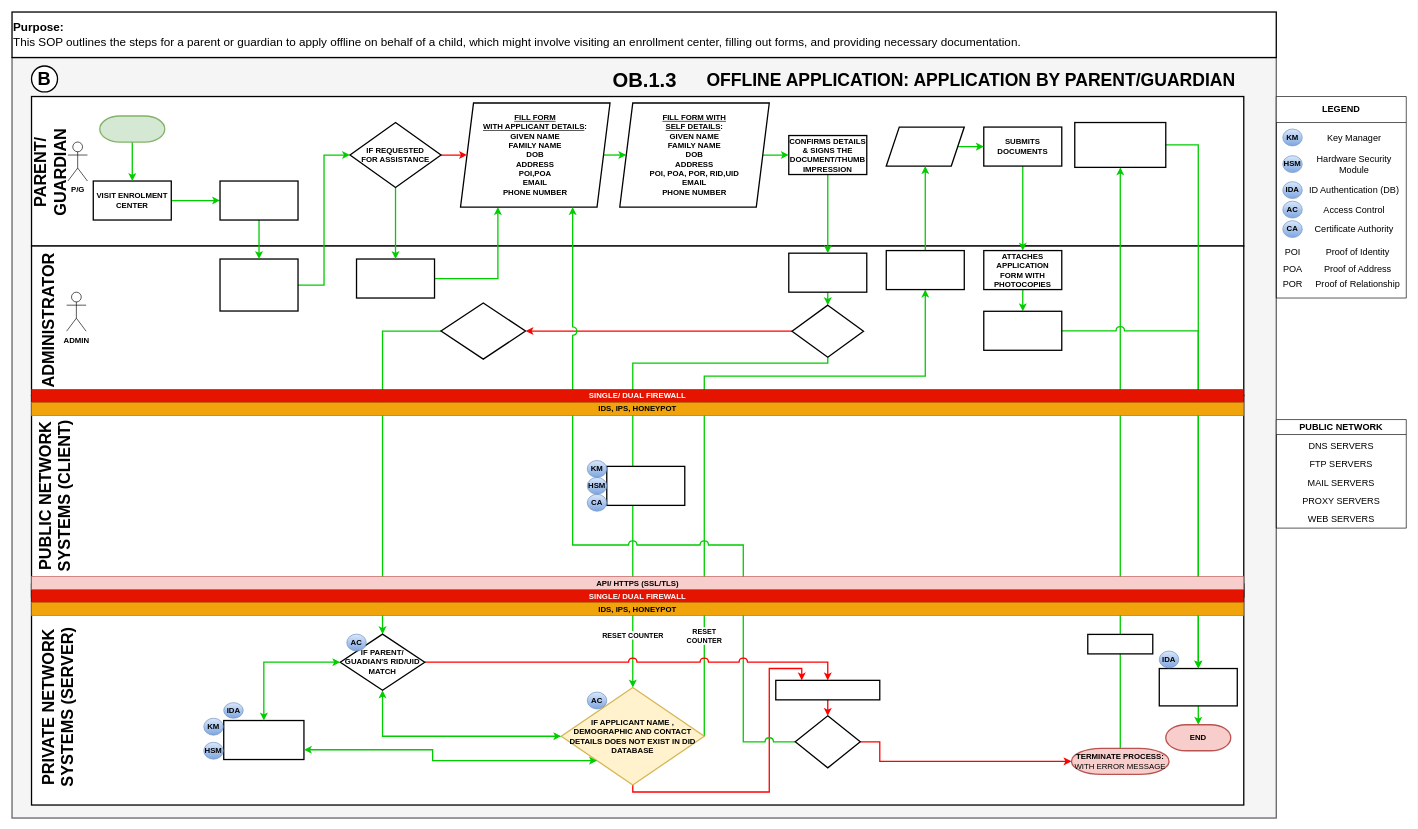
The diagram is 1418 pixels wide and 829 high, and some of its shapes have lost their labels. Here are the shapes that lost their labels. From the top down, the centre of each, then its label:
[132,128]: START (OFFLINE)
[925,146]: PROVIDES PHOTOCOPIES OF POI, POA & POR
[1120,145]: RECEIVE APPLICATION REJECTED ACKNOWLEDGEMENT
[258,200]: REQUEST NEW APPLICATION FORM with PARENT/GUARDIAN
[258,284]: HANDS OVER PHYSICAL COPY OF NEW APPLICATION FORM FOR PARENT/GUARDIAN
[395,278]: PROVIDES ASSISTANCE TO FILL THE FORM
[827,272]: RECEIVE FILLED APPPLICATION FORM
[925,270]: REQUESTS PHOTOCOPIES OF POI, POA & POR
[483,330]: IF PARENT/ GUADIAN'S RID/UID PROVIDED
[827,331]: IF APPLICANT AGE >5 YEARS
[1022,330]: PROCEED TO PRE-REGISTRATION FOR APPOINTMENT OB.1.3.D
[645,485]: MASK & ENCRYPT APPLICATION DETAILS
[1120,643]: NOTIFICATION GENERATOR
[827,689]: EXCEPTION AND ERROR HANDLING (COUNTER)
[1198,687]: LOGS THE PROCESS AND STATUS
[263,740]: DID USER DATABASE
[827,741]: IF RETRY COUNT <=3
